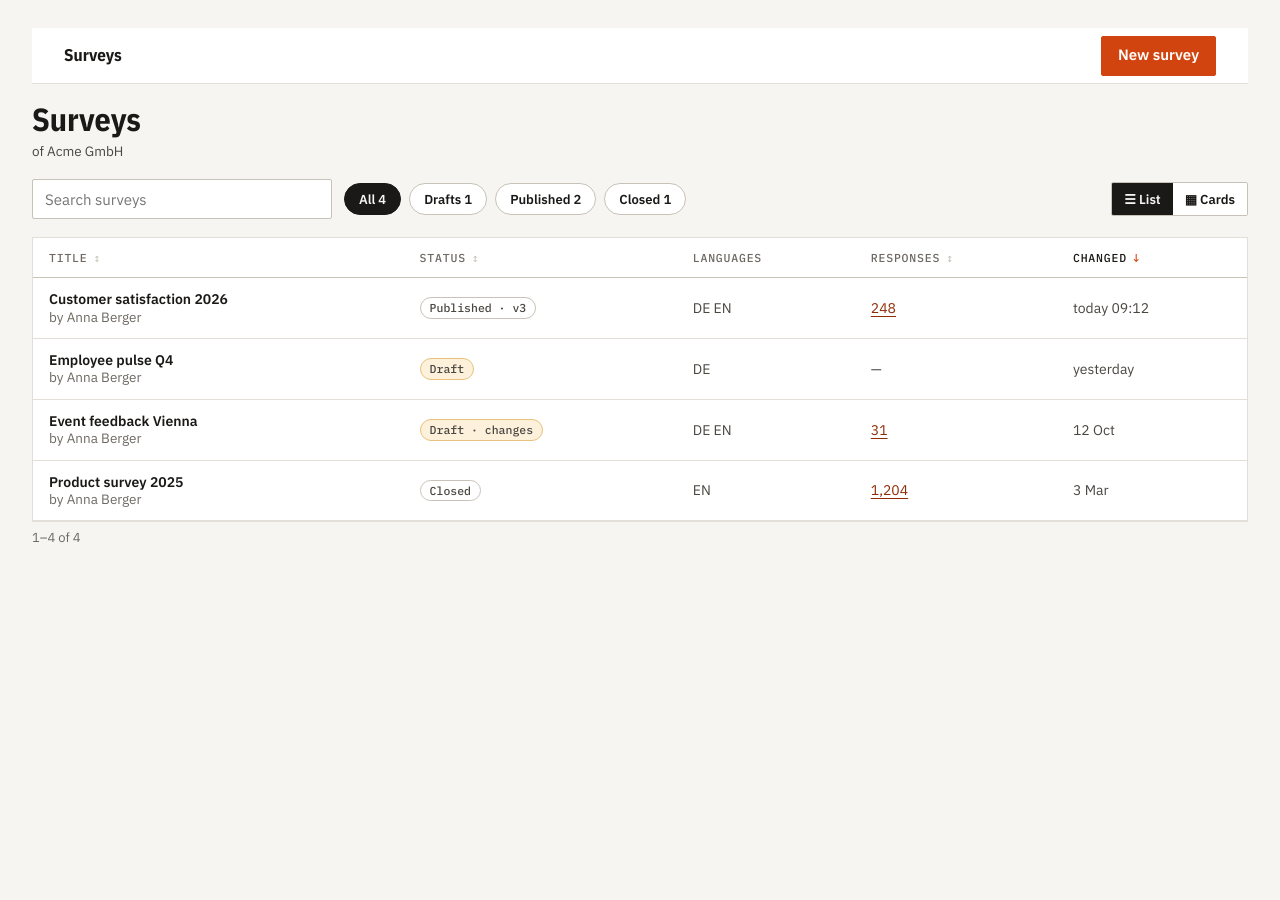
Scenario: SurveyListPage (W6) › asks for a title
Expected: the link "Employee pulse Q4" is shown, [49,351,174,369]
Click the button "New survey".
click(1158, 56)  # box [1101,36,1216,76]
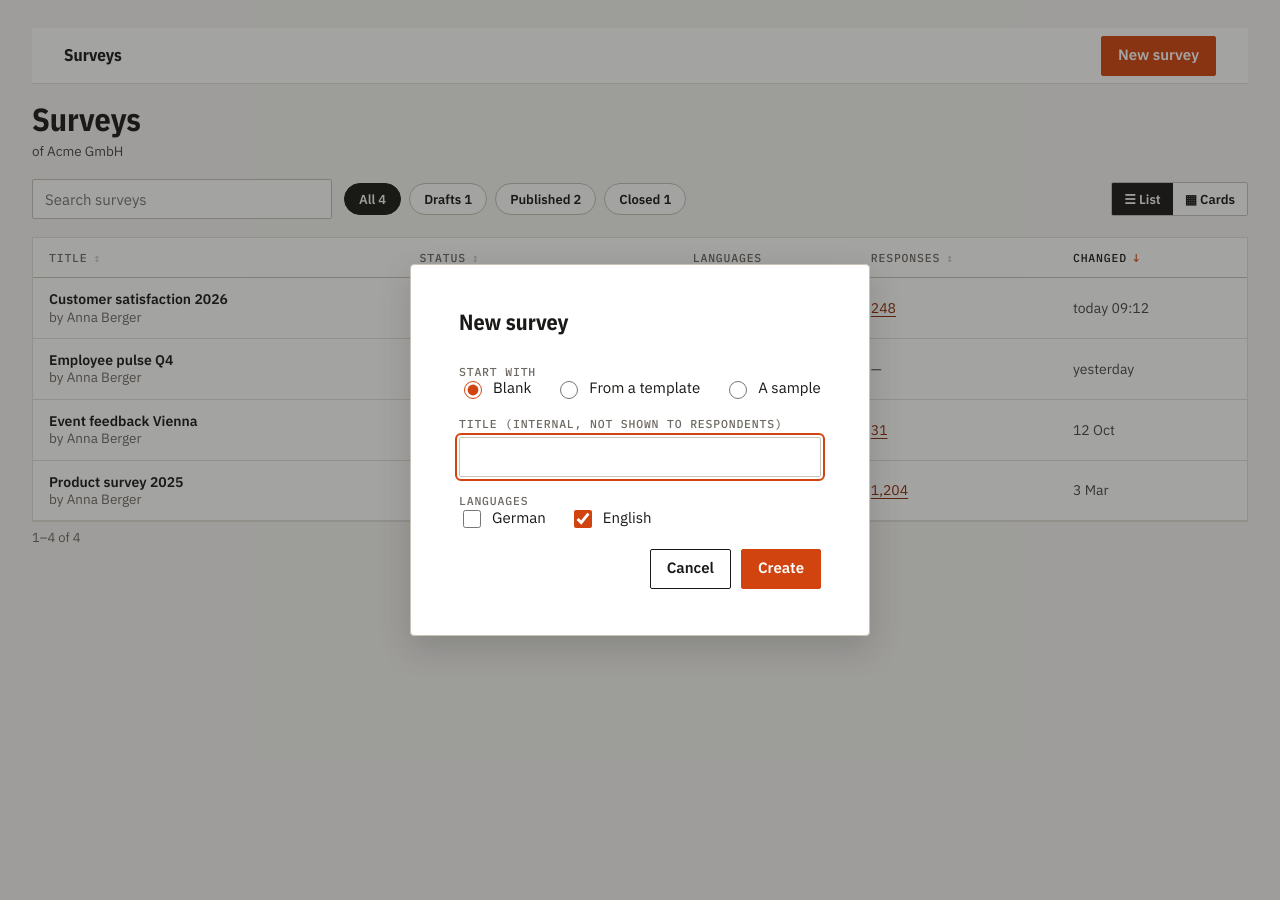
Click the button "Create".
click(781, 569)  # box [741,549,821,589]
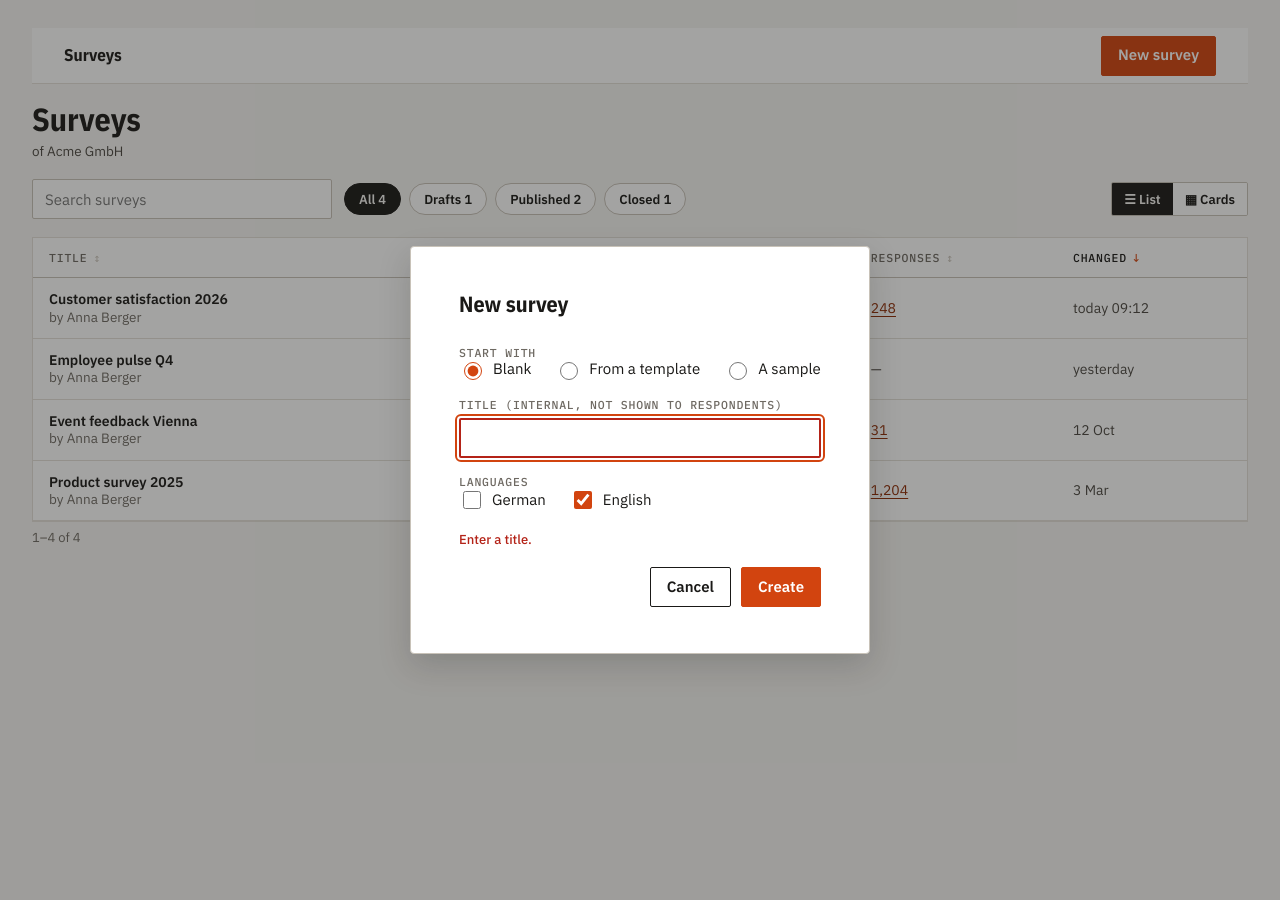
Expected: the text "Enter a title." is shown, [459,531,532,548]
